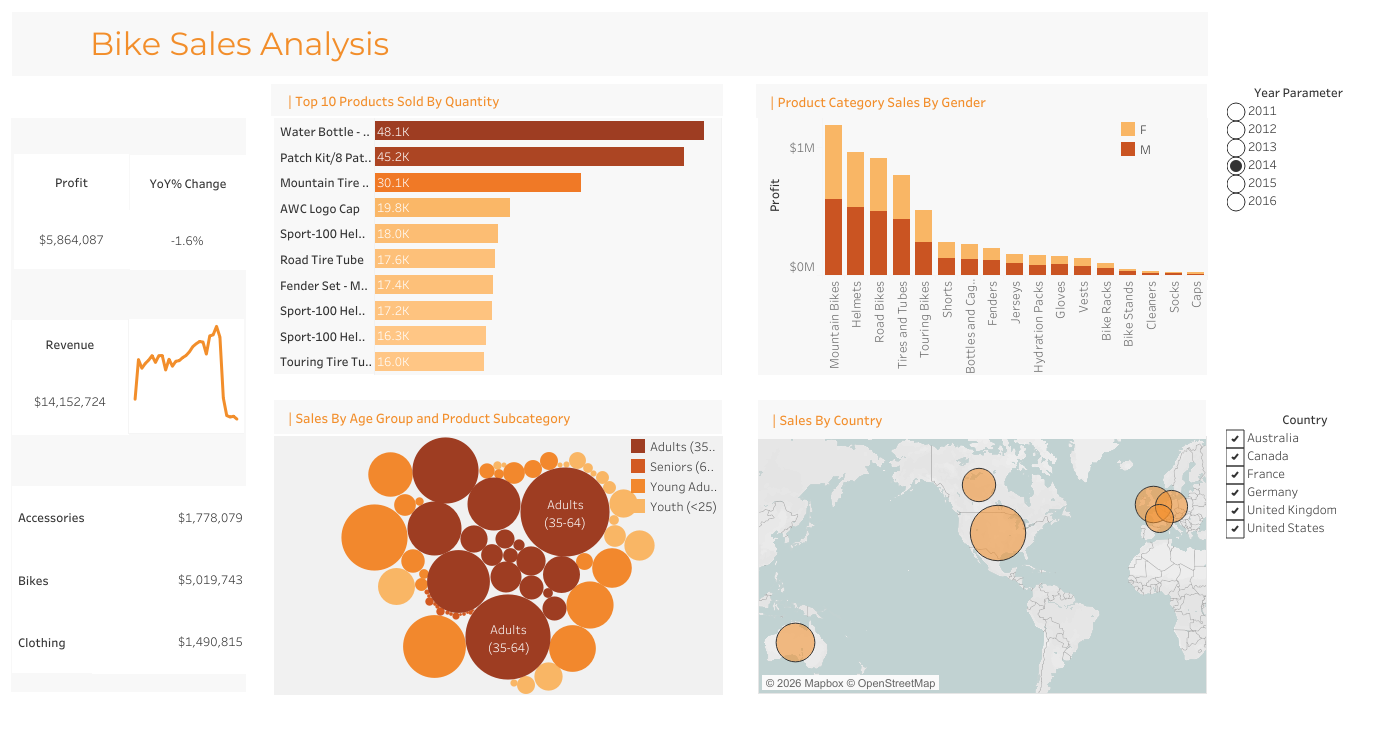

The dashboard page shown, as its layout file describes it:
{"tool":"tableau","page":{"name":"Sales Dashboard","canvas":[1400,750],"ordinal":0},"visuals":[{"type":"title","box":[8,8,1204,72]},{"type":"blank","box":[8,80,1204,662]},{"type":"parameter","param":"[Parameters].[Parameter 1]","box":[1227,82,143,202]},{"type":"text","box":[271.2,84.3,452,31.8]},{"type":"text","box":[756.2,84.3,451.2,33.7]},{"type":"worksheet","title":"Top 10 Products","mark":"Bar","rows":["Product"],"box":[273.7,118,448.6,257.5]},{"type":"worksheet","title":"Sub Category Bar Chart","mark":"Automatic","rows":["Profit"],"cols":["Sub_Category"],"box":[757.9,118,448.6,257.5]},{"type":"legend","title":"Sub Category Bar Chart","param":"[federated.0slp1rp1jznwx01epq2541oegzza].[none:Customer_Gender:nk]","box":[1117.8,118.9,85.3,59.9]},{"type":"worksheet","title":"Profit Card","mark":"Automatic","cols":["Calculation_0777687145316353"],"box":[13.5,154.5,115.8,113.3]},{"type":"worksheet","title":"YoY % Change","mark":"Automatic","cols":["Calculation_0777687150858248"],"box":[130.1,155.4,115.8,113.3]},{"type":"worksheet","title":"Revenue Line Chart","mark":"Automatic","rows":["Revenue"],"cols":["Date"],"box":[127.6,319.3,115.8,113.3]},{"type":"worksheet","title":"Revenue Card","mark":"Automatic","cols":["Calculation_0777687155675145"],"box":[11.8,320.2,115.8,113.3]},{"type":"text","box":[273.7,399.8,448.6,34.6]},{"type":"text","box":[757.9,399.8,447.8,39.3]},{"type":"filter","title":"Age Group Bubble Chart","param":"[federated.0slp1rp1jznwx01epq2541oegzza].[none:Country:nk]","box":[1226,409,158,223]},{"type":"worksheet","title":"Age Group Bubble Chart","mark":"Circle","box":[273.7,436.3,448.6,257.5]},{"type":"legend","title":"Age Group Bubble Chart","param":"[federated.0slp1rp1jznwx01epq2541oegzza].[none:Age_Group:nk]","box":[627.8,436.3,91.3,87.1]},{"type":"worksheet","title":"Map","mark":"Automatic","box":[757.9,436.3,448.6,257.5]},{"type":"worksheet","title":"Cost Card","mark":"Automatic","rows":["Product_Category"],"box":[11.8,486,234.9,187.3]}]}

Visuals, with their boxes in screenshot pixels (x1, y1, x2, y2), scaled from the page's 1400x750 canvas onto the 1399x749 screenshot:
title: BBox(8, 8, 1211, 80)
blank: BBox(8, 80, 1211, 741)
parameter: BBox(1226, 82, 1369, 284)
text: BBox(271, 84, 723, 116)
text: BBox(756, 84, 1207, 118)
"Top 10 Products" worksheet (Bar marks): BBox(274, 118, 722, 375)
"Sub Category Bar Chart" worksheet: BBox(757, 118, 1206, 375)
"Sub Category Bar Chart" legend: BBox(1117, 119, 1202, 179)
"Profit Card" worksheet: BBox(13, 154, 129, 267)
"YoY % Change" worksheet: BBox(130, 155, 246, 268)
"Revenue Line Chart" worksheet: BBox(128, 319, 243, 432)
"Revenue Card" worksheet: BBox(12, 320, 128, 433)
text: BBox(274, 399, 722, 434)
text: BBox(757, 399, 1205, 439)
"Age Group Bubble Chart" filter: BBox(1225, 408, 1383, 631)
"Age Group Bubble Chart" worksheet (Circle marks): BBox(274, 436, 722, 693)
"Age Group Bubble Chart" legend: BBox(627, 436, 719, 523)
"Map" worksheet: BBox(757, 436, 1206, 693)
"Cost Card" worksheet: BBox(12, 485, 247, 672)
